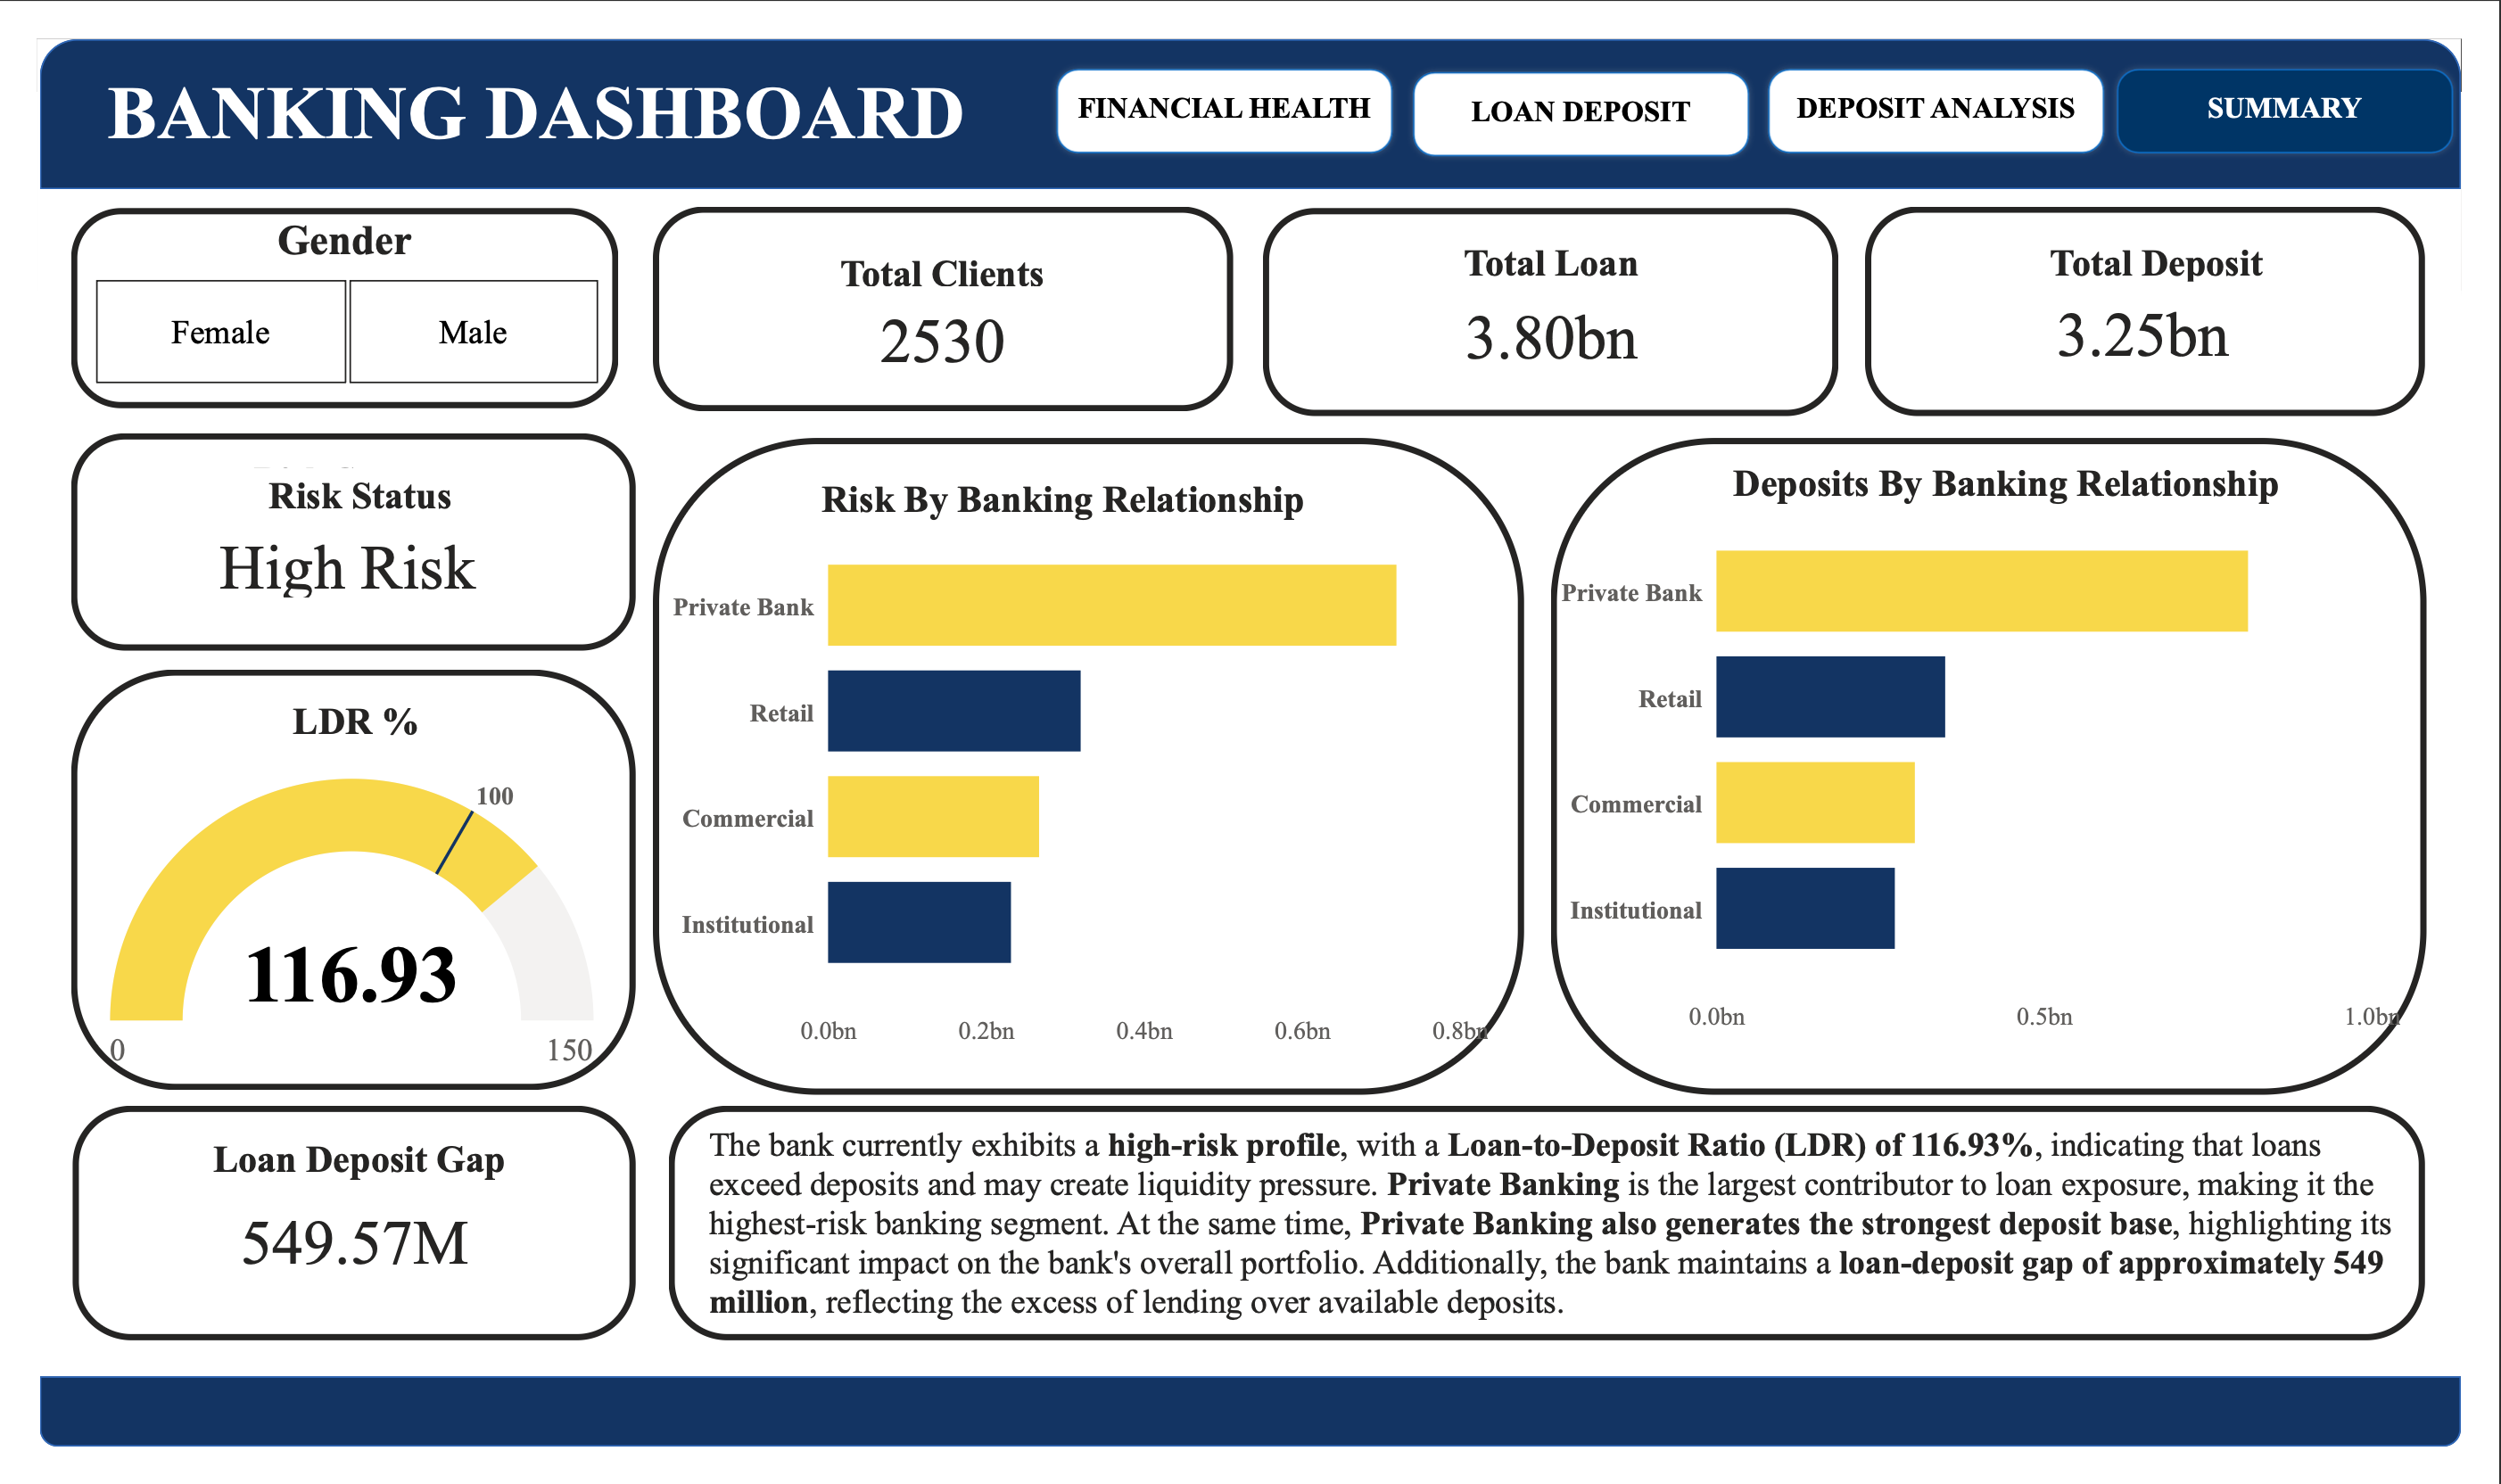

The page's visual inventory and layout, read from the dashboard file:
{"tool":"powerbi","page":{"name":"Summary","canvas":[1550,900],"ordinal":3},"visuals":[{"type":"shape","box":[968,254.7,560.4,419.9],"z":0},{"type":"shape","box":[1.5,0,1548.5,95.7],"z":1000},{"type":"textbox","box":[0,13.9,639.1,81.8],"z":2000},{"type":"shape","box":[647.9,14.7,223.9,61.8],"z":2000,"group":"g1"},{"type":"shape","box":[1102.9,15.4,223.9,61.8],"z":2000,"group":"g3"},{"type":"shape","box":[1325.2,15.4,223.9,61.8],"z":2000,"group":"g4"},{"type":"shape","box":[875.9,17,223.9,61.8],"z":2000,"group":"g2"},{"type":"shape","box":[21.6,108.1,350.4,128.1],"z":3000},{"type":"shape","box":[393.7,106.5,370.5,131.2],"z":4000,"group":"g5"},{"type":"shape","box":[21.6,251.6,361.3,138.9],"z":4000},{"type":"textbox","box":[647.3,27.6,225.4,40.1],"z":5000,"group":"g1"},{"type":"textbox","box":[1102.3,28.3,225.4,40.1],"z":5000,"group":"g3"},{"type":"textbox","box":[1324.6,28.3,225.4,40.1],"z":5000,"group":"g4"},{"type":"textbox","box":[875.3,29.9,225.4,40.1],"z":5000,"group":"g2"},{"type":"shape","box":[393.7,254.7,557.3,419.9],"z":5000,"group":"g6"},{"type":"shape","box":[23.2,682.4,359.7,149.8],"z":5000},{"type":"textbox","box":[142,108.1,109.6,46.3],"z":6000},{"type":"shape","box":[1168.7,106.5,358.2,134.3],"z":7000},{"type":"shape","box":[784.3,108.1,367.4,132.8],"z":8000},{"type":"slicer","fields":{"Values":["risk_analysis client_data.genderid"]},"box":[12.4,146.7,370.5,80.3],"z":9000},{"type":"textbox","box":[468.9,131.2,219.5,43.2],"z":10000,"group":"g5"},{"type":"shape","box":[1.5,855.3,1548.5,44.8],"z":10000},{"type":"group","id":"g1","title":"Group 1","box":[647.3,14.7,225.4,61.8],"z":11000},{"type":"group","id":"g2","title":"Group 1","box":[875.3,17,225.4,61.8],"z":12000},{"type":"group","id":"g3","title":"Group 1","box":[1102.3,15.4,225.4,61.8],"z":13000},{"type":"textbox","box":[1249,125,213,43.2],"z":14000},{"type":"group","id":"g4","title":"Group 1","box":[1324.6,15.4,225.4,61.8],"z":15000},{"type":"cardVisual","fields":{"Data":["Count(risk_analysis client_data.name)"]},"box":[468.9,152.8,221.3,75.6],"z":15000,"group":"g5"},{"type":"actionButton","box":[875.3,13.9,223.9,63.3],"z":16000},{"type":"cardVisual","fields":{"Data":["risk_analysis client_data.TOTAL DEPOSIT"]},"box":[1218.1,149.8,257.8,75.6],"z":17000},{"type":"actionButton","box":[1103.8,13.9,223.9,63.3],"z":18000},{"type":"actionButton","box":[1099.2,13.9,223.9,63.3],"z":19000},{"type":"textbox","box":[872.3,125,193,43.2],"z":20000},{"type":"actionButton","box":[872.3,13.9,223.9,63.3],"z":21000},{"type":"actionButton","box":[1100.7,17,223.9,63.3],"z":22000},{"type":"actionButton","box":[646.9,15.4,223.9,63.3],"z":23000},{"type":"cardVisual","fields":{"Data":["risk_analysis client_data.TOTOAL LOAN"]},"box":[819.8,151.3,298,75.6],"z":24000},{"type":"gauge","fields":{"Y":["risk_analysis client_data.LDR %"],"MaxValue":["risk_analysis client_data.Max Gauge"],"MinValue":["risk_analysis client_data.Min Gauge"],"TargetValue":["risk_analysis client_data.Target LDR"]},"box":[38.6,464.7,325.7,200.7],"z":25000},{"type":"cardVisual","fields":{"Data":["risk_analysis client_data.Risk Score"]},"box":[86.5,298,225.4,75.6],"z":26000},{"type":"textbox","box":[91.1,264,211.5,43.2],"z":27000},{"type":"textbox","box":[424.5,276,463.1,43.2],"z":28000,"group":"g6"},{"type":"shape","box":[21.6,402.9,361.3,268.6],"z":28000},{"type":"group","id":"g5","title":"Group 2","box":[393.7,106.5,370.5,131.2],"z":29000},{"type":"barChart","fields":{"Category":["risk_analysis client_data.brid"],"Y":["Sum(risk_analysis client_data.bank_deposits)"]},"box":[968,287.2,548.1,355.1],"z":30000},{"type":"textbox","box":[98.8,418.4,211.5,43.2],"z":31000},{"type":"textbox","box":[1028.2,265.5,463.1,43.2],"z":32000},{"type":"shape","box":[404.5,682.4,1122.4,149.8],"z":33000},{"type":"textbox","box":[101.1,274,211.5,43.2],"z":34000},{"type":"barChart","fields":{"Category":["risk_analysis client_data.brid"],"Y":["Sum(risk_analysis client_data.bank_loans)"]},"box":[399.8,296,532.6,355.1],"z":34000,"group":"g6"},{"type":"group","id":"g6","title":"Group 3","box":[393.7,254.7,557.3,419.9],"z":35000},{"type":"cardVisual","fields":{"Data":["risk_analysis client_data.Loan Deposit Gap"]},"box":[63.3,719.4,281,98.8],"z":36000},{"type":"textbox","box":[66.4,697.8,281,43.2],"z":37000},{"type":"textbox","box":[424.6,690.1,1091.5,135.9],"z":38000}]}

Visuals, with their boxes in screenshot pixels (x1, y1, x2, y2), scaled from the page's 1550x900 canvas onto the 2501x1484 screenshot:
shape: bbox=[1562, 420, 2466, 1112]
shape: bbox=[3, 0, 2500, 158]
textbox: bbox=[0, 23, 1031, 158]
shape: bbox=[1045, 24, 1407, 126]
shape: bbox=[1779, 25, 2141, 128]
shape: bbox=[2138, 25, 2499, 128]
shape: bbox=[1414, 28, 1775, 130]
shape: bbox=[35, 178, 600, 390]
shape: bbox=[635, 176, 1233, 392]
shape: bbox=[35, 415, 618, 644]
textbox: bbox=[1044, 45, 1408, 111]
textbox: bbox=[1779, 46, 2142, 112]
textbox: bbox=[2137, 46, 2500, 112]
textbox: bbox=[1412, 49, 1776, 115]
shape: bbox=[635, 420, 1534, 1112]
shape: bbox=[37, 1125, 618, 1373]
textbox: bbox=[229, 178, 406, 254]
shape: bbox=[1886, 176, 2464, 397]
shape: bbox=[1266, 178, 1858, 397]
slicer - risk_analysis client_data.genderid: bbox=[20, 242, 618, 375]
textbox: bbox=[756, 217, 1110, 287]
shape: bbox=[3, 1410, 2500, 1483]
"Group 1" group: bbox=[1044, 24, 1408, 126]
"Group 1" group: bbox=[1412, 28, 1776, 130]
"Group 1" group: bbox=[1779, 25, 2142, 128]
textbox: bbox=[2015, 206, 2359, 277]
"Group 1" group: bbox=[2137, 25, 2500, 128]
cardVisual - Count(risk_analysis client_data.name): bbox=[756, 252, 1114, 376]
actionButton: bbox=[1412, 23, 1773, 128]
cardVisual - risk_analysis client_data.TOTAL DEPOSIT: bbox=[1966, 247, 2381, 372]
actionButton: bbox=[1781, 23, 2142, 128]
actionButton: bbox=[1773, 23, 2135, 128]
textbox: bbox=[1407, 206, 1719, 277]
actionButton: bbox=[1407, 23, 1769, 128]
actionButton: bbox=[1776, 28, 2137, 132]
actionButton: bbox=[1044, 25, 1405, 130]
cardVisual - risk_analysis client_data.TOTOAL LOAN: bbox=[1323, 250, 1804, 375]
gauge - risk_analysis client_data.LDR % x risk_analysis client_data.Max Gauge: bbox=[62, 766, 588, 1097]
cardVisual - risk_analysis client_data.Risk Score: bbox=[139, 491, 503, 616]
textbox: bbox=[147, 435, 488, 507]
textbox: bbox=[685, 455, 1432, 526]
shape: bbox=[35, 664, 618, 1108]
"Group 2" group: bbox=[635, 176, 1233, 392]
barChart - risk_analysis client_data.brid x Sum(risk_analysis client_data.bank_deposits): bbox=[1562, 474, 2447, 1059]
textbox: bbox=[160, 690, 500, 761]
textbox: bbox=[1659, 438, 2406, 509]
shape: bbox=[653, 1125, 2464, 1373]
textbox: bbox=[163, 452, 505, 523]
barChart - risk_analysis client_data.brid x Sum(risk_analysis client_data.bank_loans): bbox=[645, 488, 1505, 1074]
"Group 3" group: bbox=[635, 420, 1534, 1112]
cardVisual - risk_analysis client_data.Loan Deposit Gap: bbox=[103, 1186, 556, 1349]
textbox: bbox=[107, 1150, 560, 1222]
textbox: bbox=[685, 1138, 2447, 1362]
